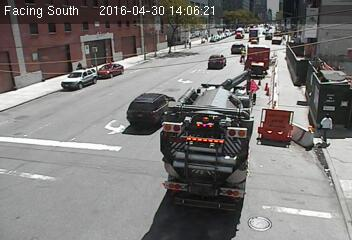neg: (217, 104, 251, 149), (173, 122, 201, 159), (196, 176, 224, 213), (223, 62, 247, 94), (240, 76, 264, 107)
pos: (315, 112, 341, 148)
